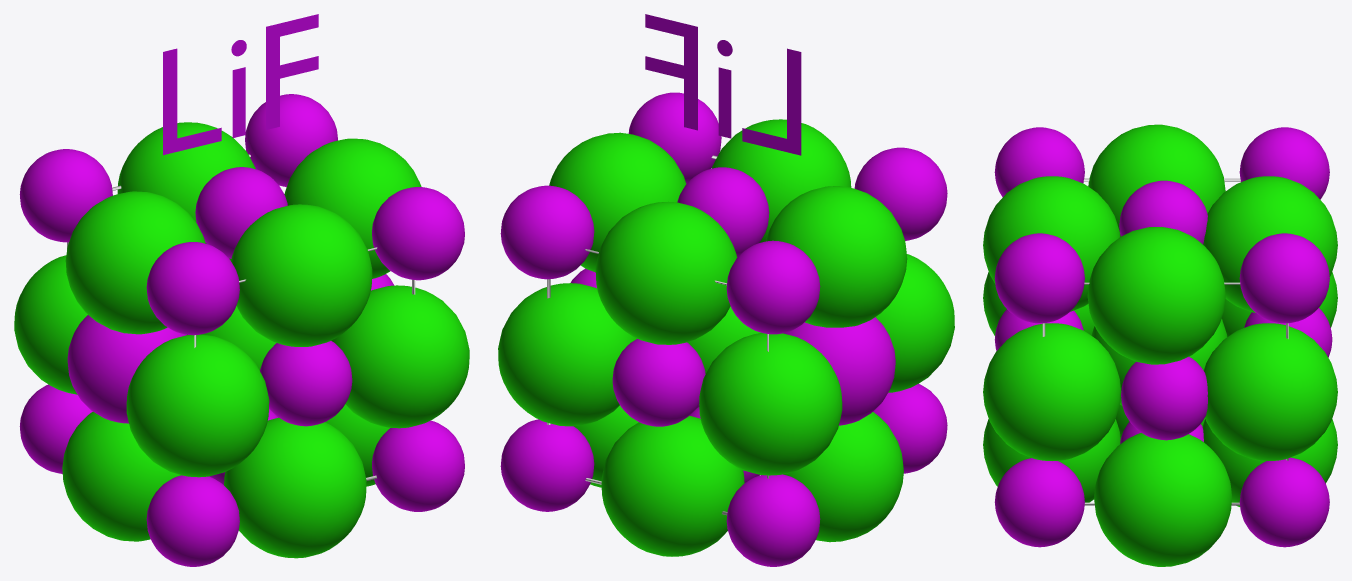
File: lif.glb
The picture shows the model from 3 angles, left to right: view 1: azimuth 30°, elevation 25°; view 2: azimuth 150°, elevation 25°; view 3: azimuth 270°, elevation 25°; orthographic projection. The views are drawn at different scales.
Visible parts, largest first — view 1: Sphere.023, Sphere.022, Sphere.025, Sphere.024, Sphere.018, Sphere.021, Sphere.014, Sphere.001, Sphere, Sphere.003, Sphere.002, Sphere.016 (+10 smaller); view 2: Sphere.020, Sphere.016, Sphere.027, Sphere.026, Sphere.018, Sphere.021, Sphere.014, Sphere.005, Sphere.004, Sphere.007, Sphere.006, Sphere.022 (+10 smaller); view 3: Sphere.014, Sphere.024, Sphere.026, Sphere.017, Sphere.016, Sphere.022, Sphere.018, Sphere.004, Sphere, Sphere.006, Sphere.002, Sphere.009 (+10 smaller).
Boxes of the visible parts, box(x1,y1,x2,y2) form: Sphere.023: box(126, 334, 269, 477); Sphere.022: box(231, 204, 372, 346); Sphere.025: box(224, 417, 366, 558); Sphere.024: box(331, 285, 469, 428); Sphere.018: box(65, 191, 205, 334); Sphere.021: box(62, 412, 180, 541); Sphere.014: box(284, 138, 421, 278); Sphere.001: box(146, 242, 239, 335); Sphere: box(372, 187, 464, 280); Sphere.003: box(146, 475, 239, 566); Sphere.002: box(372, 420, 464, 511); Sphere.016: box(117, 122, 255, 243); Sphere.020: box(699, 333, 842, 475); Sphere.016: box(595, 201, 737, 344); Sphere.027: box(601, 415, 744, 556); Sphere.026: box(498, 283, 637, 426); Sphere.018: box(766, 186, 907, 327); Sphere.021: box(783, 412, 903, 542); Sphere.014: box(549, 132, 686, 272); Sphere.005: box(726, 240, 820, 334); Sphere.004: box(500, 185, 594, 279); Sphere.007: box(726, 474, 820, 566); Sphere.006: box(500, 419, 594, 511); Sphere.022: box(712, 119, 851, 242); Sphere.014: box(1087, 227, 1225, 364); Sphere.024: box(983, 323, 1121, 460); Sphere.026: box(1203, 323, 1337, 460); Sphere.017: box(1094, 433, 1232, 566); Sphere.016: box(1203, 176, 1337, 312); Sphere.022: box(983, 176, 1120, 311); Sphere.018: box(1088, 124, 1225, 236); Sphere.004: box(1239, 233, 1329, 323); Sphere: box(994, 233, 1084, 323); Sphere.006: box(1239, 457, 1329, 547); Sphere.002: box(994, 458, 1084, 547); Sphere.009: box(1121, 356, 1207, 440).
Bounding box in the file's own units: 6.06 × 8.07 × 5.66.
